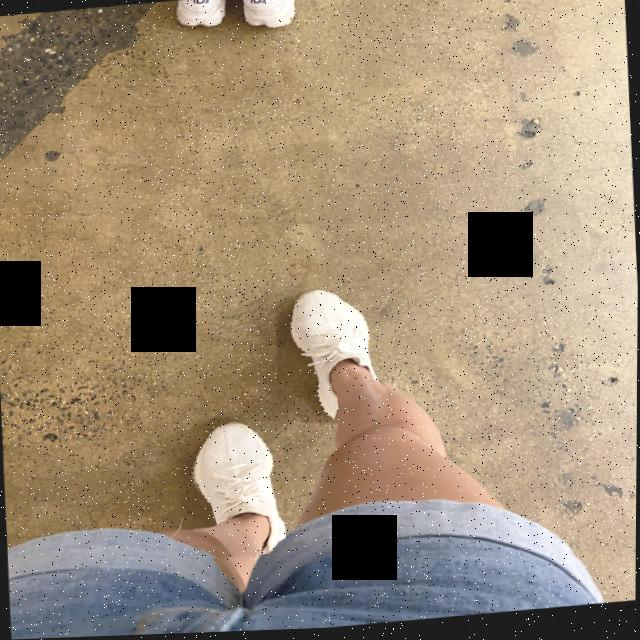shoe: (288, 283, 394, 429), (188, 420, 288, 562), (239, 0, 299, 33), (173, 0, 233, 31)
